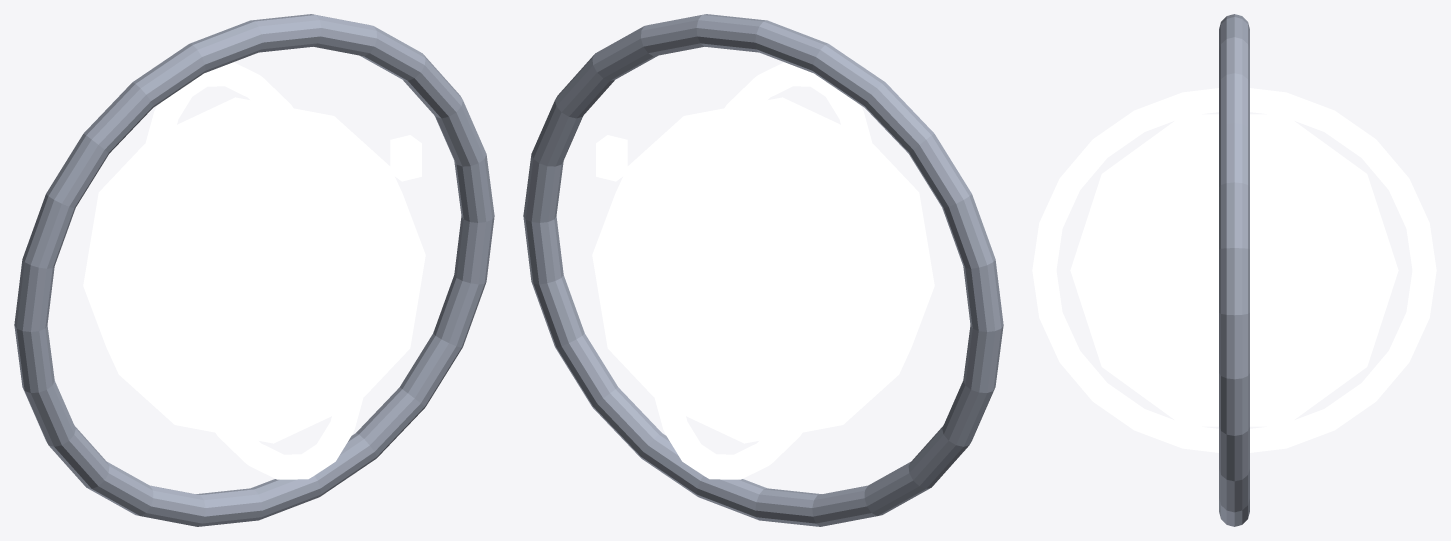
File: quantum_ball.glb
3 renders of one model, left to right at view 1: azimuth 30°, elevation 25°; view 2: azimuth 150°, elevation 25°; view 3: azimuth 270°, elevation 25°, orthographic. The views are drawn at different scales.
Visible parts, largest first — view 1: core, ring_a, ring_b, node_q_asym; view 2: core, ring_a, ring_b, node_q_asym; view 3: core, ring_b, ring_a.
Boxes of the visible parts, x1,y1,x2,y2 form: core: (83,97,425,443); ring_a: (14,14,494,526); ring_b: (145,62,368,479); node_q_asym: (390,135,421,181); core: (592,97,934,443); ring_a: (523,14,1003,526); ring_b: (649,62,872,479); node_q_asym: (596,135,627,181); core: (1070,114,1398,426); ring_b: (1032,88,1436,452); ring_a: (1219,14,1249,526).
Size of the model in its own units: 0.596 by 0.596 by 0.468.
